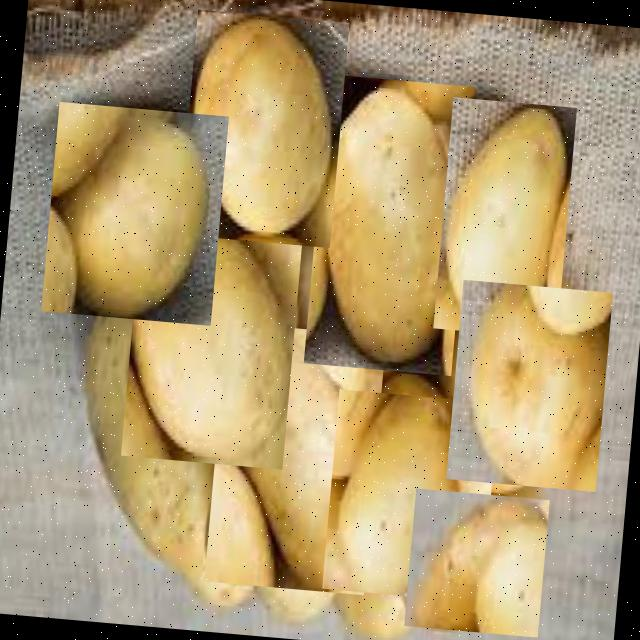Potato: (44, 294, 255, 595), (302, 73, 475, 374), (203, 321, 385, 594), (120, 223, 302, 468), (39, 100, 228, 324), (177, 8, 348, 246), (320, 388, 498, 601), (444, 278, 612, 491), (432, 95, 576, 338), (402, 486, 548, 636)
